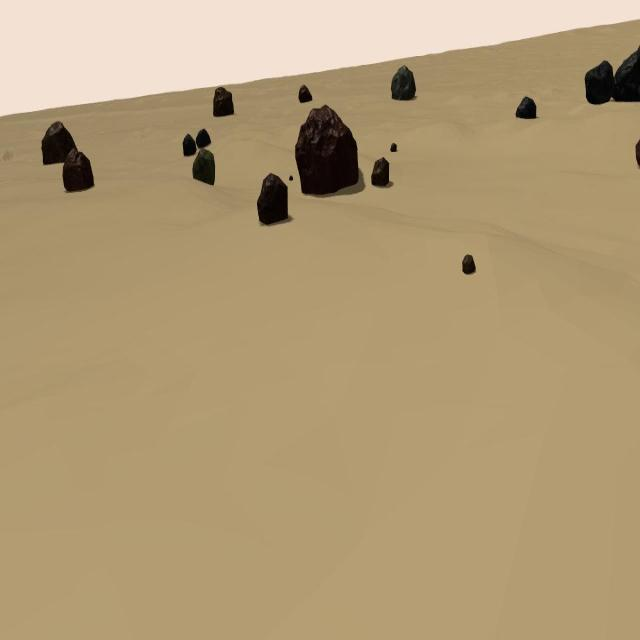rock: (295, 105, 359, 195), (612, 44, 640, 102), (42, 121, 78, 165), (258, 172, 288, 223), (62, 147, 94, 193), (585, 59, 613, 103), (192, 147, 215, 185), (392, 64, 416, 100), (213, 87, 234, 116), (372, 157, 389, 187), (516, 95, 536, 119), (182, 133, 196, 155), (462, 252, 476, 274), (197, 128, 210, 148), (299, 85, 312, 102), (635, 138, 640, 168), (391, 142, 397, 152), (288, 174, 293, 182)
